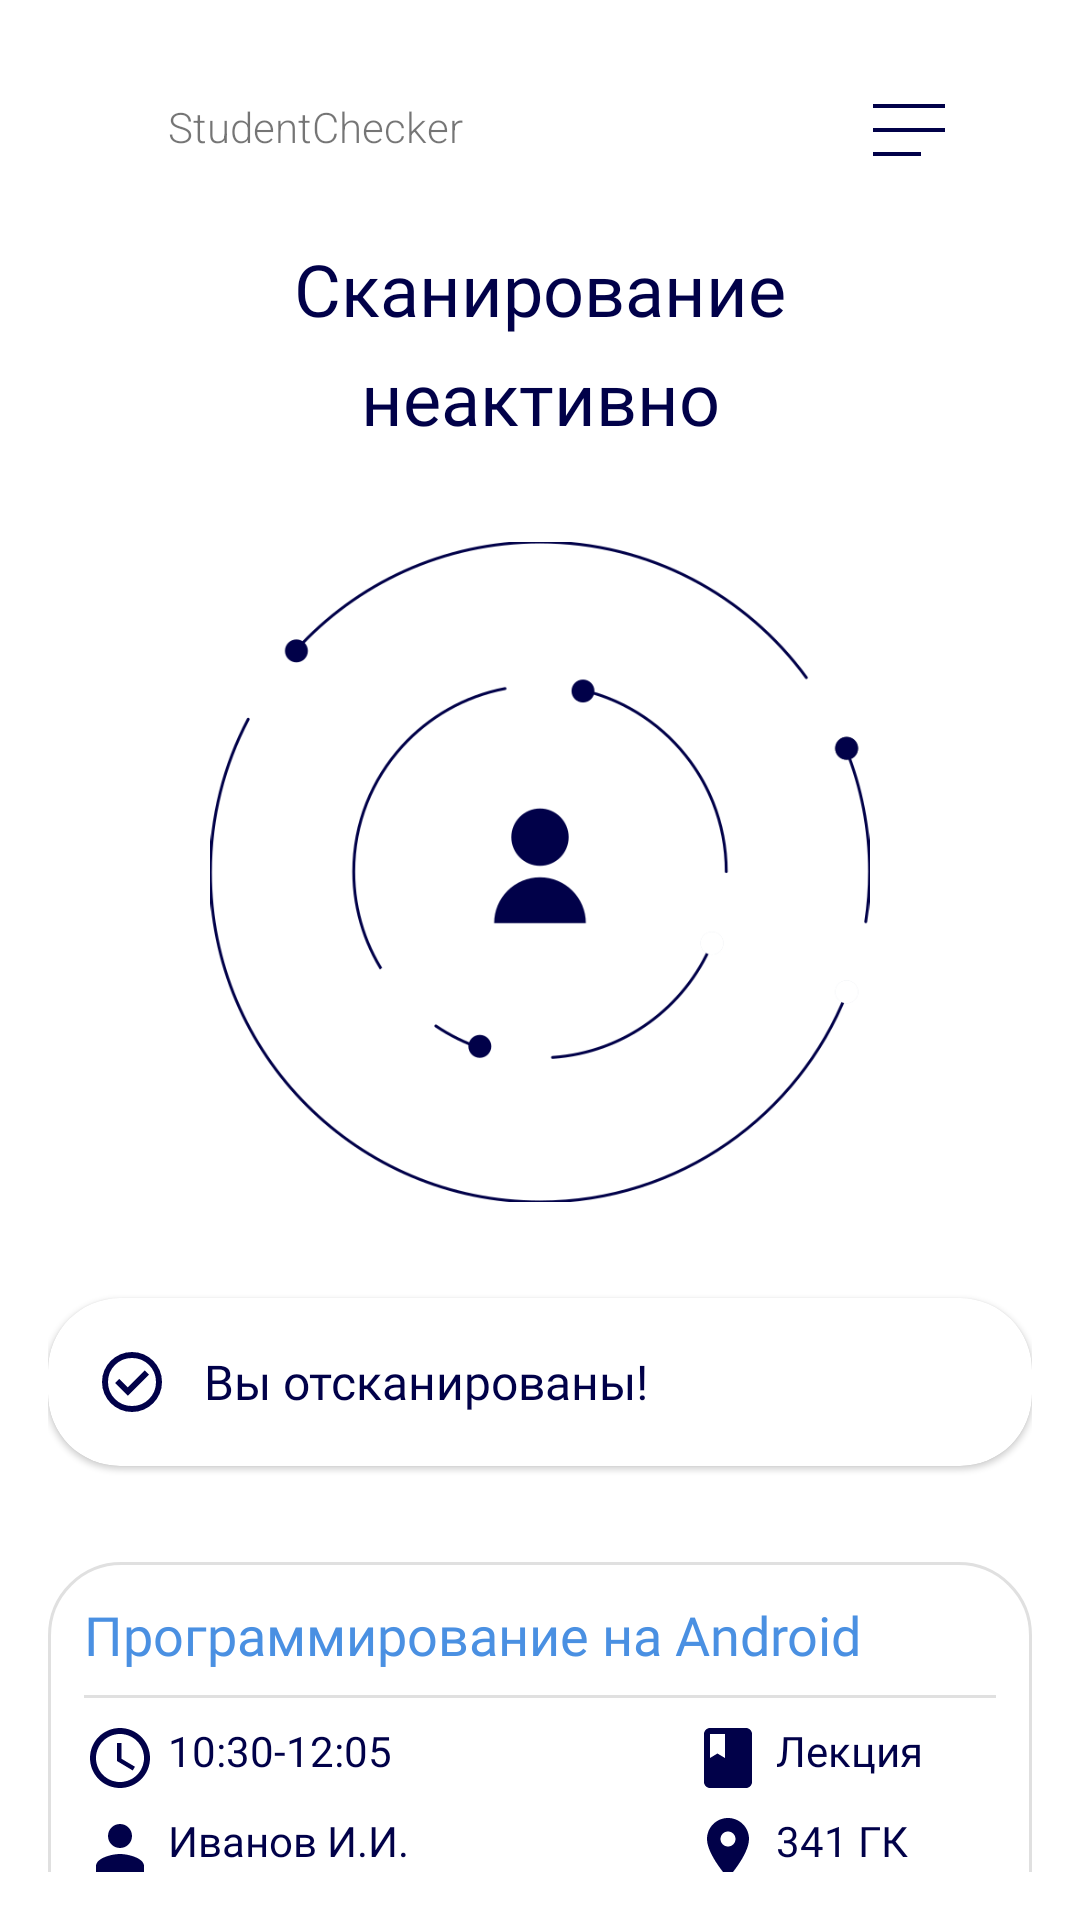

Where icons sit on this 1080 × 1920 app screen, as (x1, y1, x2, y2):
Открыть меню: (873, 104, 945, 156)
